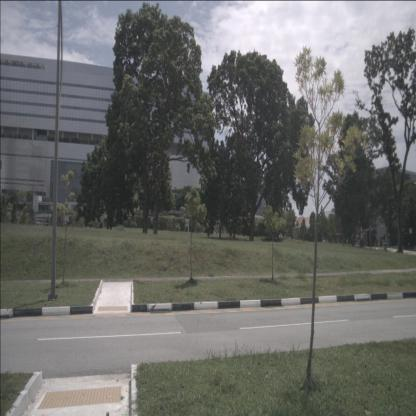human-pedestrian-adult: (379, 236, 382, 250)
vehicle-car: (33, 218, 48, 227), (7, 216, 21, 224)
